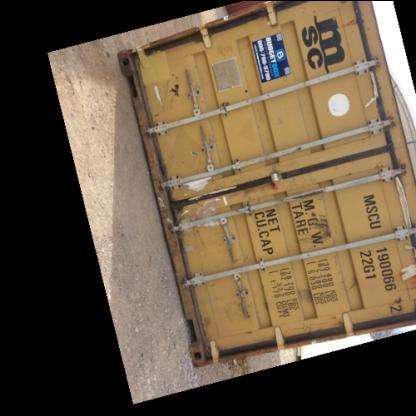Damage: (339, 18, 392, 119), (166, 178, 247, 234), (147, 66, 187, 122), (295, 204, 335, 249), (223, 292, 261, 339), (192, 298, 218, 336), (388, 286, 414, 312)
